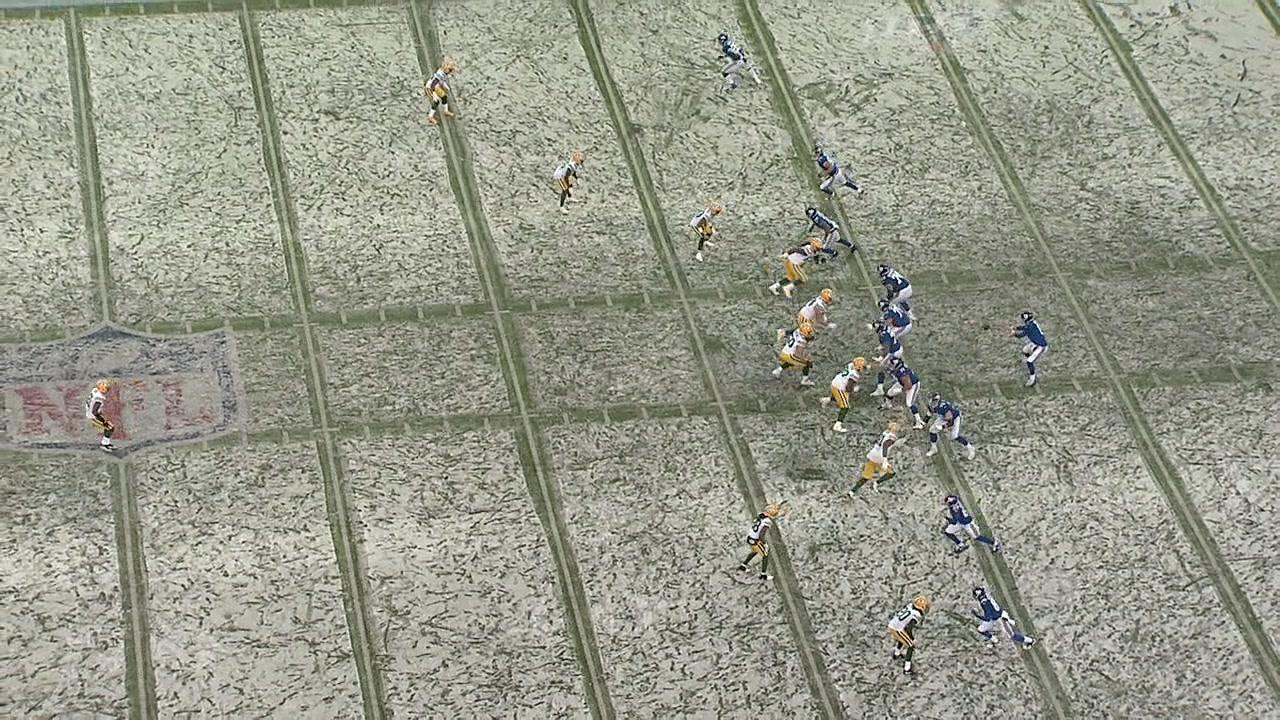defense: (850, 419, 904, 498), (822, 353, 869, 436), (886, 596, 932, 679), (84, 368, 124, 456), (741, 504, 783, 582), (769, 242, 826, 294), (550, 146, 588, 222), (772, 323, 812, 391), (685, 201, 724, 262), (787, 289, 840, 333), (424, 57, 461, 118)
oline: (875, 357, 924, 429), (924, 394, 976, 459), (869, 319, 908, 398), (880, 260, 916, 322), (877, 300, 912, 338)
qb: (1014, 306, 1049, 391)
skill: (974, 586, 1038, 656), (941, 496, 998, 557), (811, 141, 864, 201), (806, 206, 859, 259), (718, 32, 764, 92)
